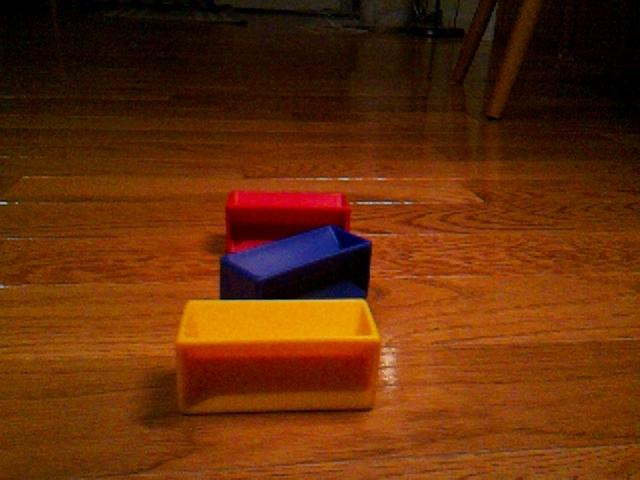blue: (218, 223, 374, 300)
red: (224, 188, 352, 254)
yellow: (174, 297, 382, 415)
